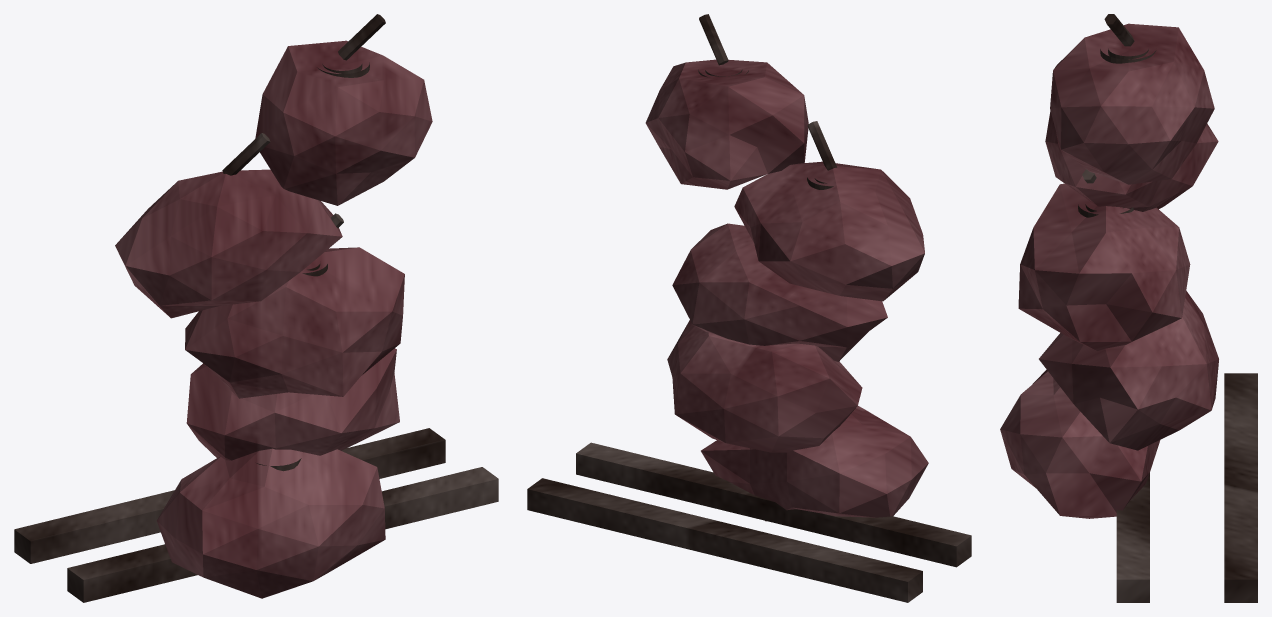
File: 0804_sack_stack_04.glb
The picture shows the model from 3 angles, left to right: view 1: azimuth 30°, elevation 25°; view 2: azimuth 150°, elevation 25°; view 3: azimuth 270°, elevation 25°; orthographic projection. The views are drawn at different scales.
Visible parts, largest first — view 1: cloth, wood_dark; view 2: cloth, wood_dark; view 3: cloth, wood_dark.
Part boxes in pixels (<box>): cloth: <box>115,40,432,598</box>; wood_dark: <box>14,14,498,602</box>; cloth: <box>645,59,928,521</box>; wood_dark: <box>527,14,971,602</box>; cloth: <box>1000,23,1218,518</box>; wood_dark: <box>1078,14,1257,602</box>.
Bounding box in the file's own units: 1.9 × 2.34 × 1.
Materials: 2 (2 with a texture image).
